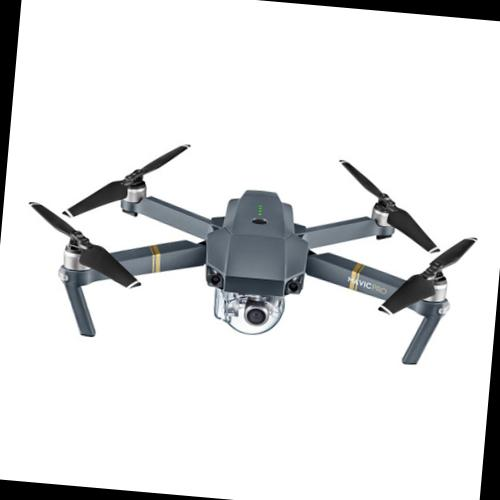drone: (14, 115, 478, 380)
